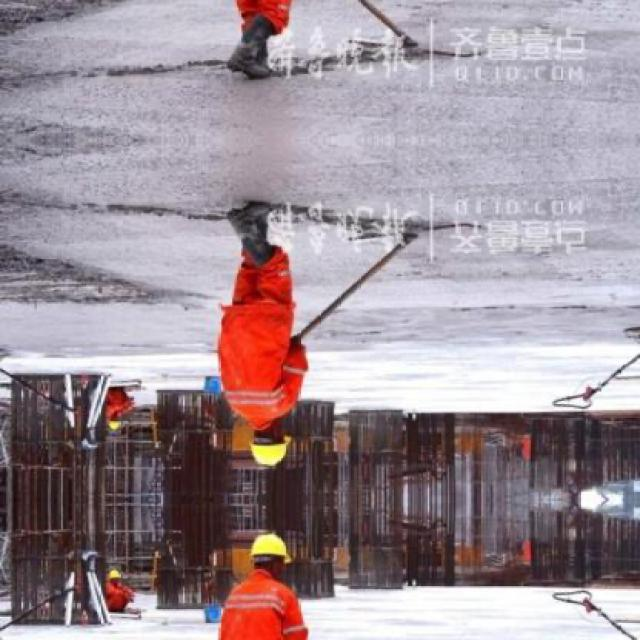con casco: (245, 385, 340, 472), (224, 527, 290, 589)
